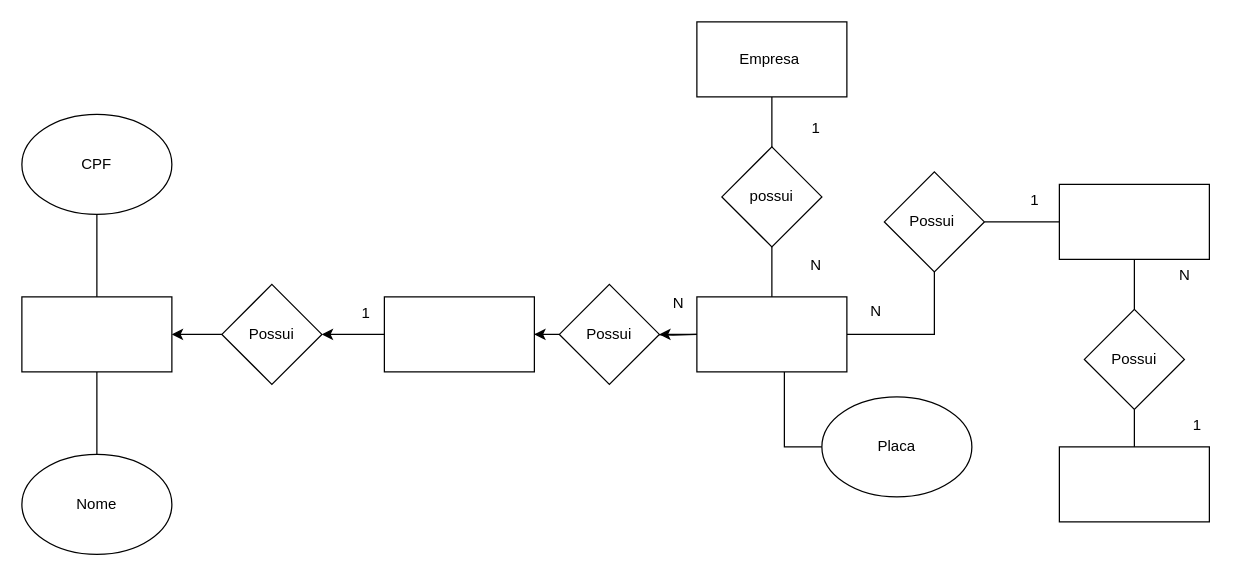
Image size: 1238x576. Some labels were removed from this diagram. Each missing label, with the centre of its shape:
"Aluguel" goes at (x=458, y=334).
"Cliente" goes at (x=96, y=334).
"Marcas" goes at (x=1133, y=484).
"Modelos" goes at (x=1133, y=221).
"Veículos" goes at (x=771, y=334).
